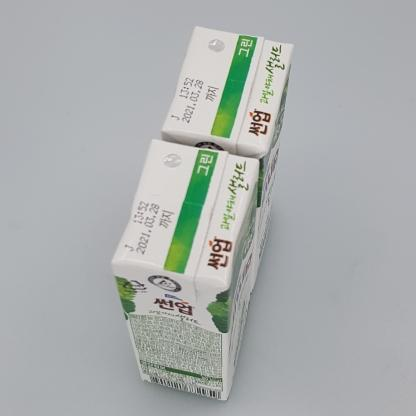-------------200ML: (111, 139, 259, 401)
